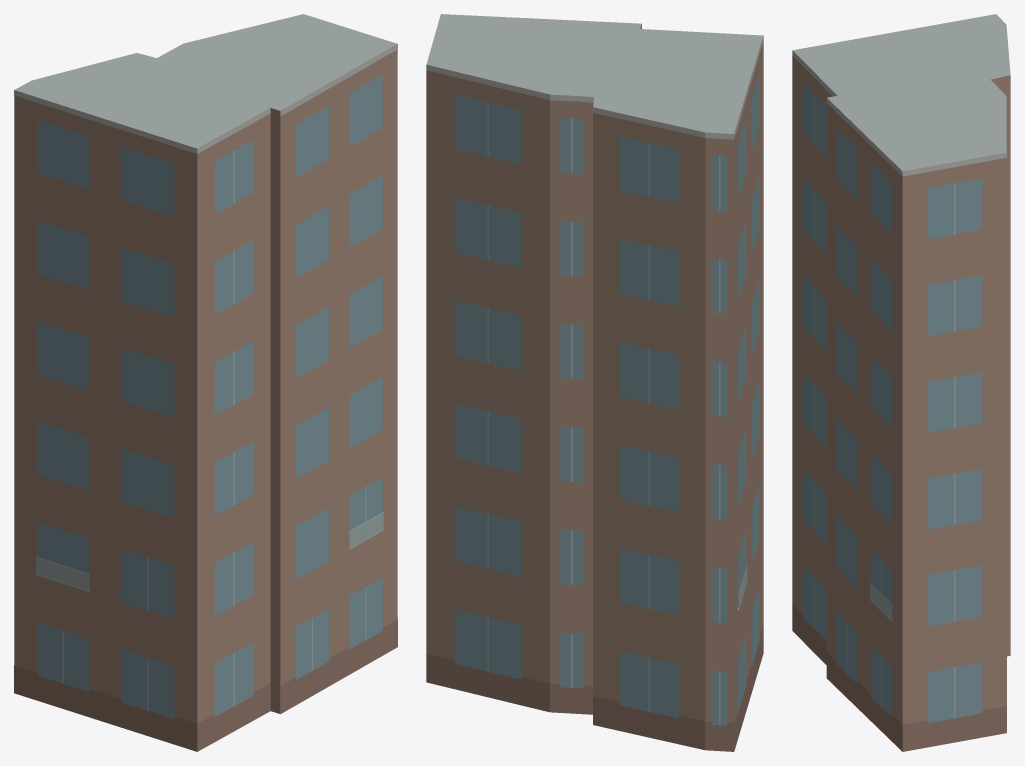
File: survey-upis-32991012.glb
3 renders of one model, left to right at view 1: azimuth 30°, elevation 25°; view 2: azimuth 150°, elevation 25°; view 3: azimuth 270°, elevation 25°, orthographic. The views are drawn at different scales.
Parts seen in each view (by area): view 1: survey-upis-32991012.tmp; view 2: survey-upis-32991012.tmp; view 3: survey-upis-32991012.tmp.
Boxes of the visible parts, x1=… form: survey-upis-32991012.tmp: x1=14, y1=14, x2=397, y2=751; survey-upis-32991012.tmp: x1=426, y1=14, x2=763, y2=751; survey-upis-32991012.tmp: x1=792, y1=14, x2=1010, y2=751.
Bounding box in the file's own units: 15.67 × 26.95 × 9.19.
